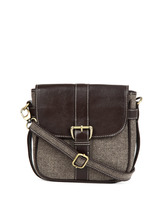bag: (23, 79, 146, 185)
